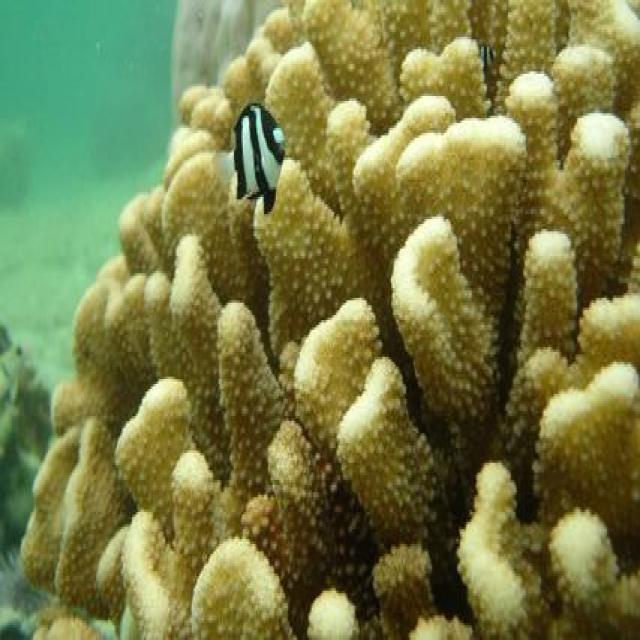ThreeStripedDamselfish: (214, 103, 286, 214)
